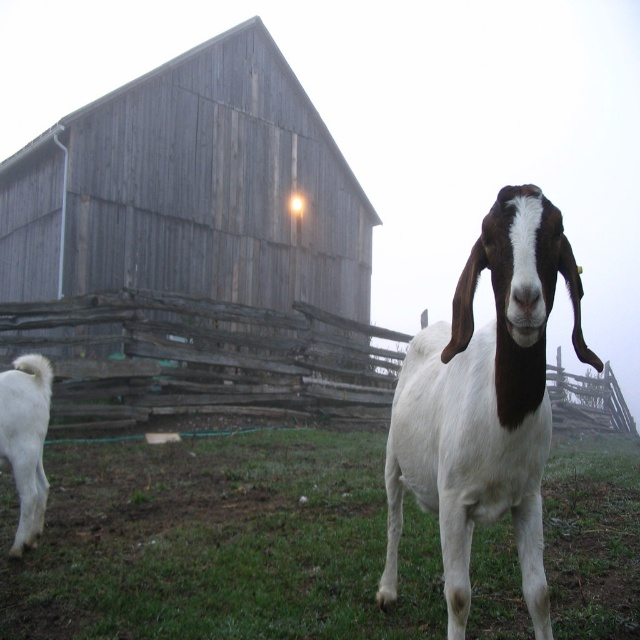Goat: (381, 183, 594, 640), (0, 350, 53, 554)
